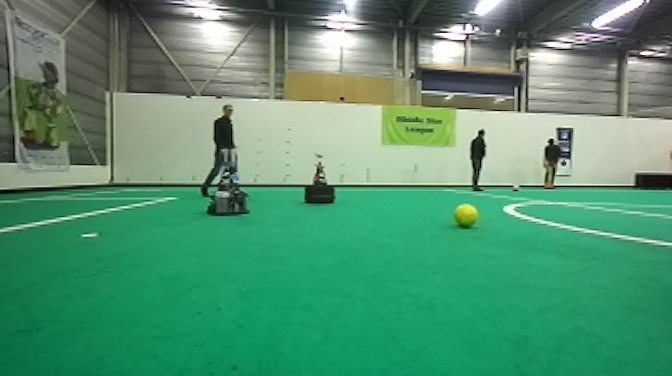ball: (452, 202, 480, 230), (510, 182, 521, 192), (542, 179, 552, 190)
human: (197, 102, 241, 197), (468, 128, 490, 190), (540, 131, 562, 189)
robot: (205, 143, 252, 217), (305, 154, 337, 205)
